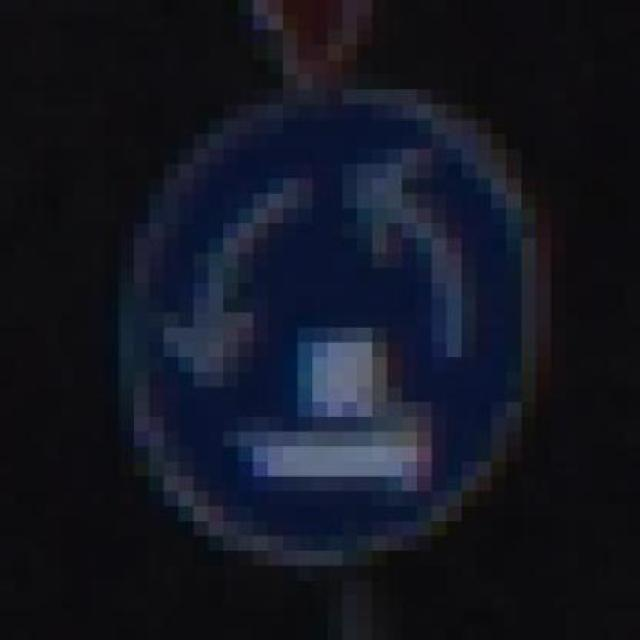Round-About: (90, 74, 596, 595)
